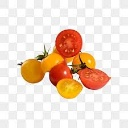tomato: (16, 58, 48, 82), (80, 64, 111, 87), (55, 33, 82, 56), (52, 62, 73, 85)
